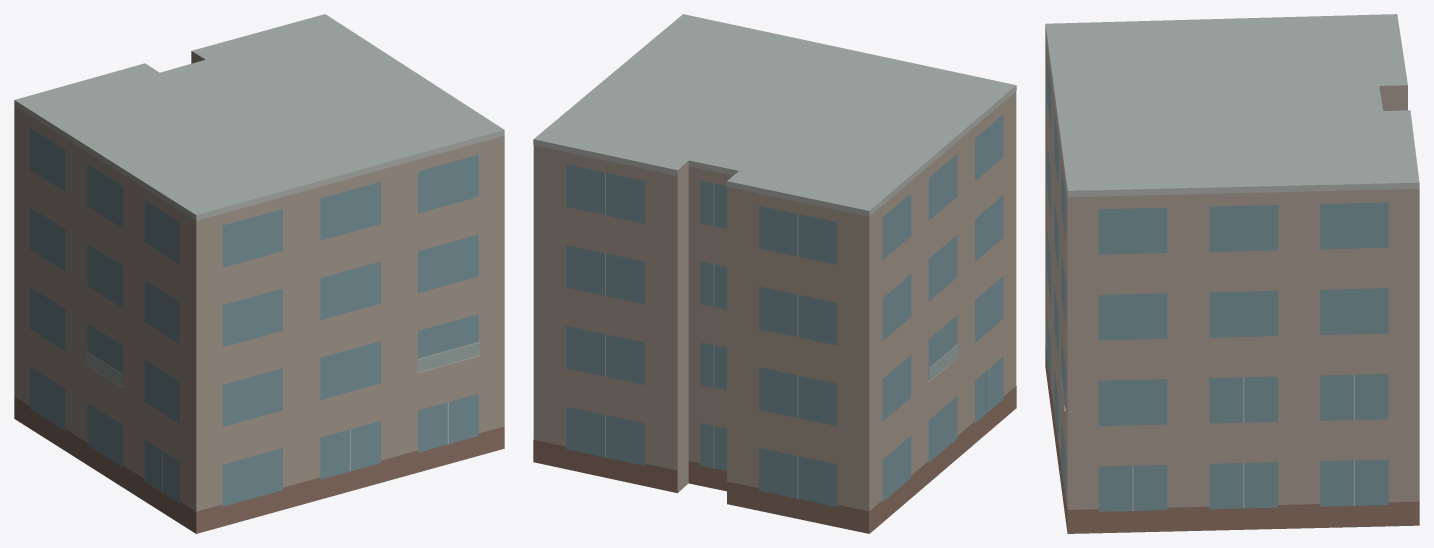
Rendered from survey-upis-32736192.glb.
3 views of the same model, side by side, from view 1: azimuth 30°, elevation 25°; view 2: azimuth 150°, elevation 25°; view 3: azimuth 270°, elevation 25° (orthographic). The views are drawn at different scales.
Parts seen in each view (by area): view 1: survey-upis-32736192.tmp; view 2: survey-upis-32736192.tmp; view 3: survey-upis-32736192.tmp.
Part boxes in pixels (x1,y1,x2,y2): survey-upis-32736192.tmp: (14,14,504,533); survey-upis-32736192.tmp: (533,14,1016,533); survey-upis-32736192.tmp: (1045,14,1419,533).
Bounding box in the file's own units: 14.91 × 13.46 × 13.32.
